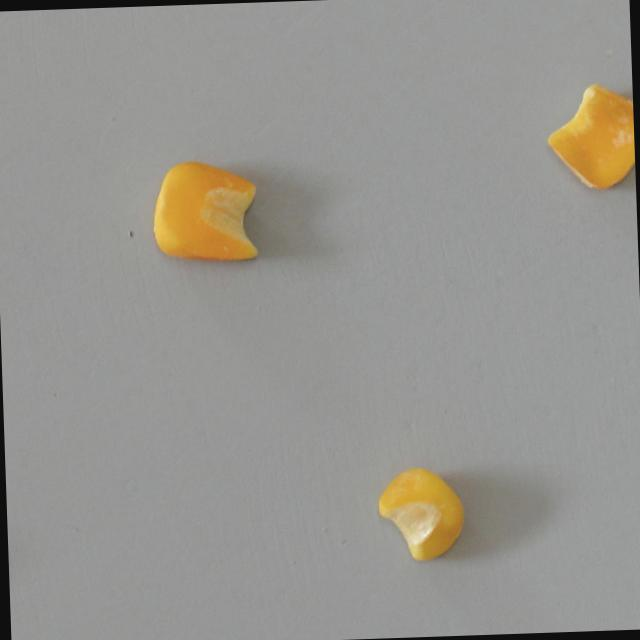no_desgerminado: (144, 144, 260, 264), (372, 457, 471, 563)
pelicula: (537, 66, 636, 207)
